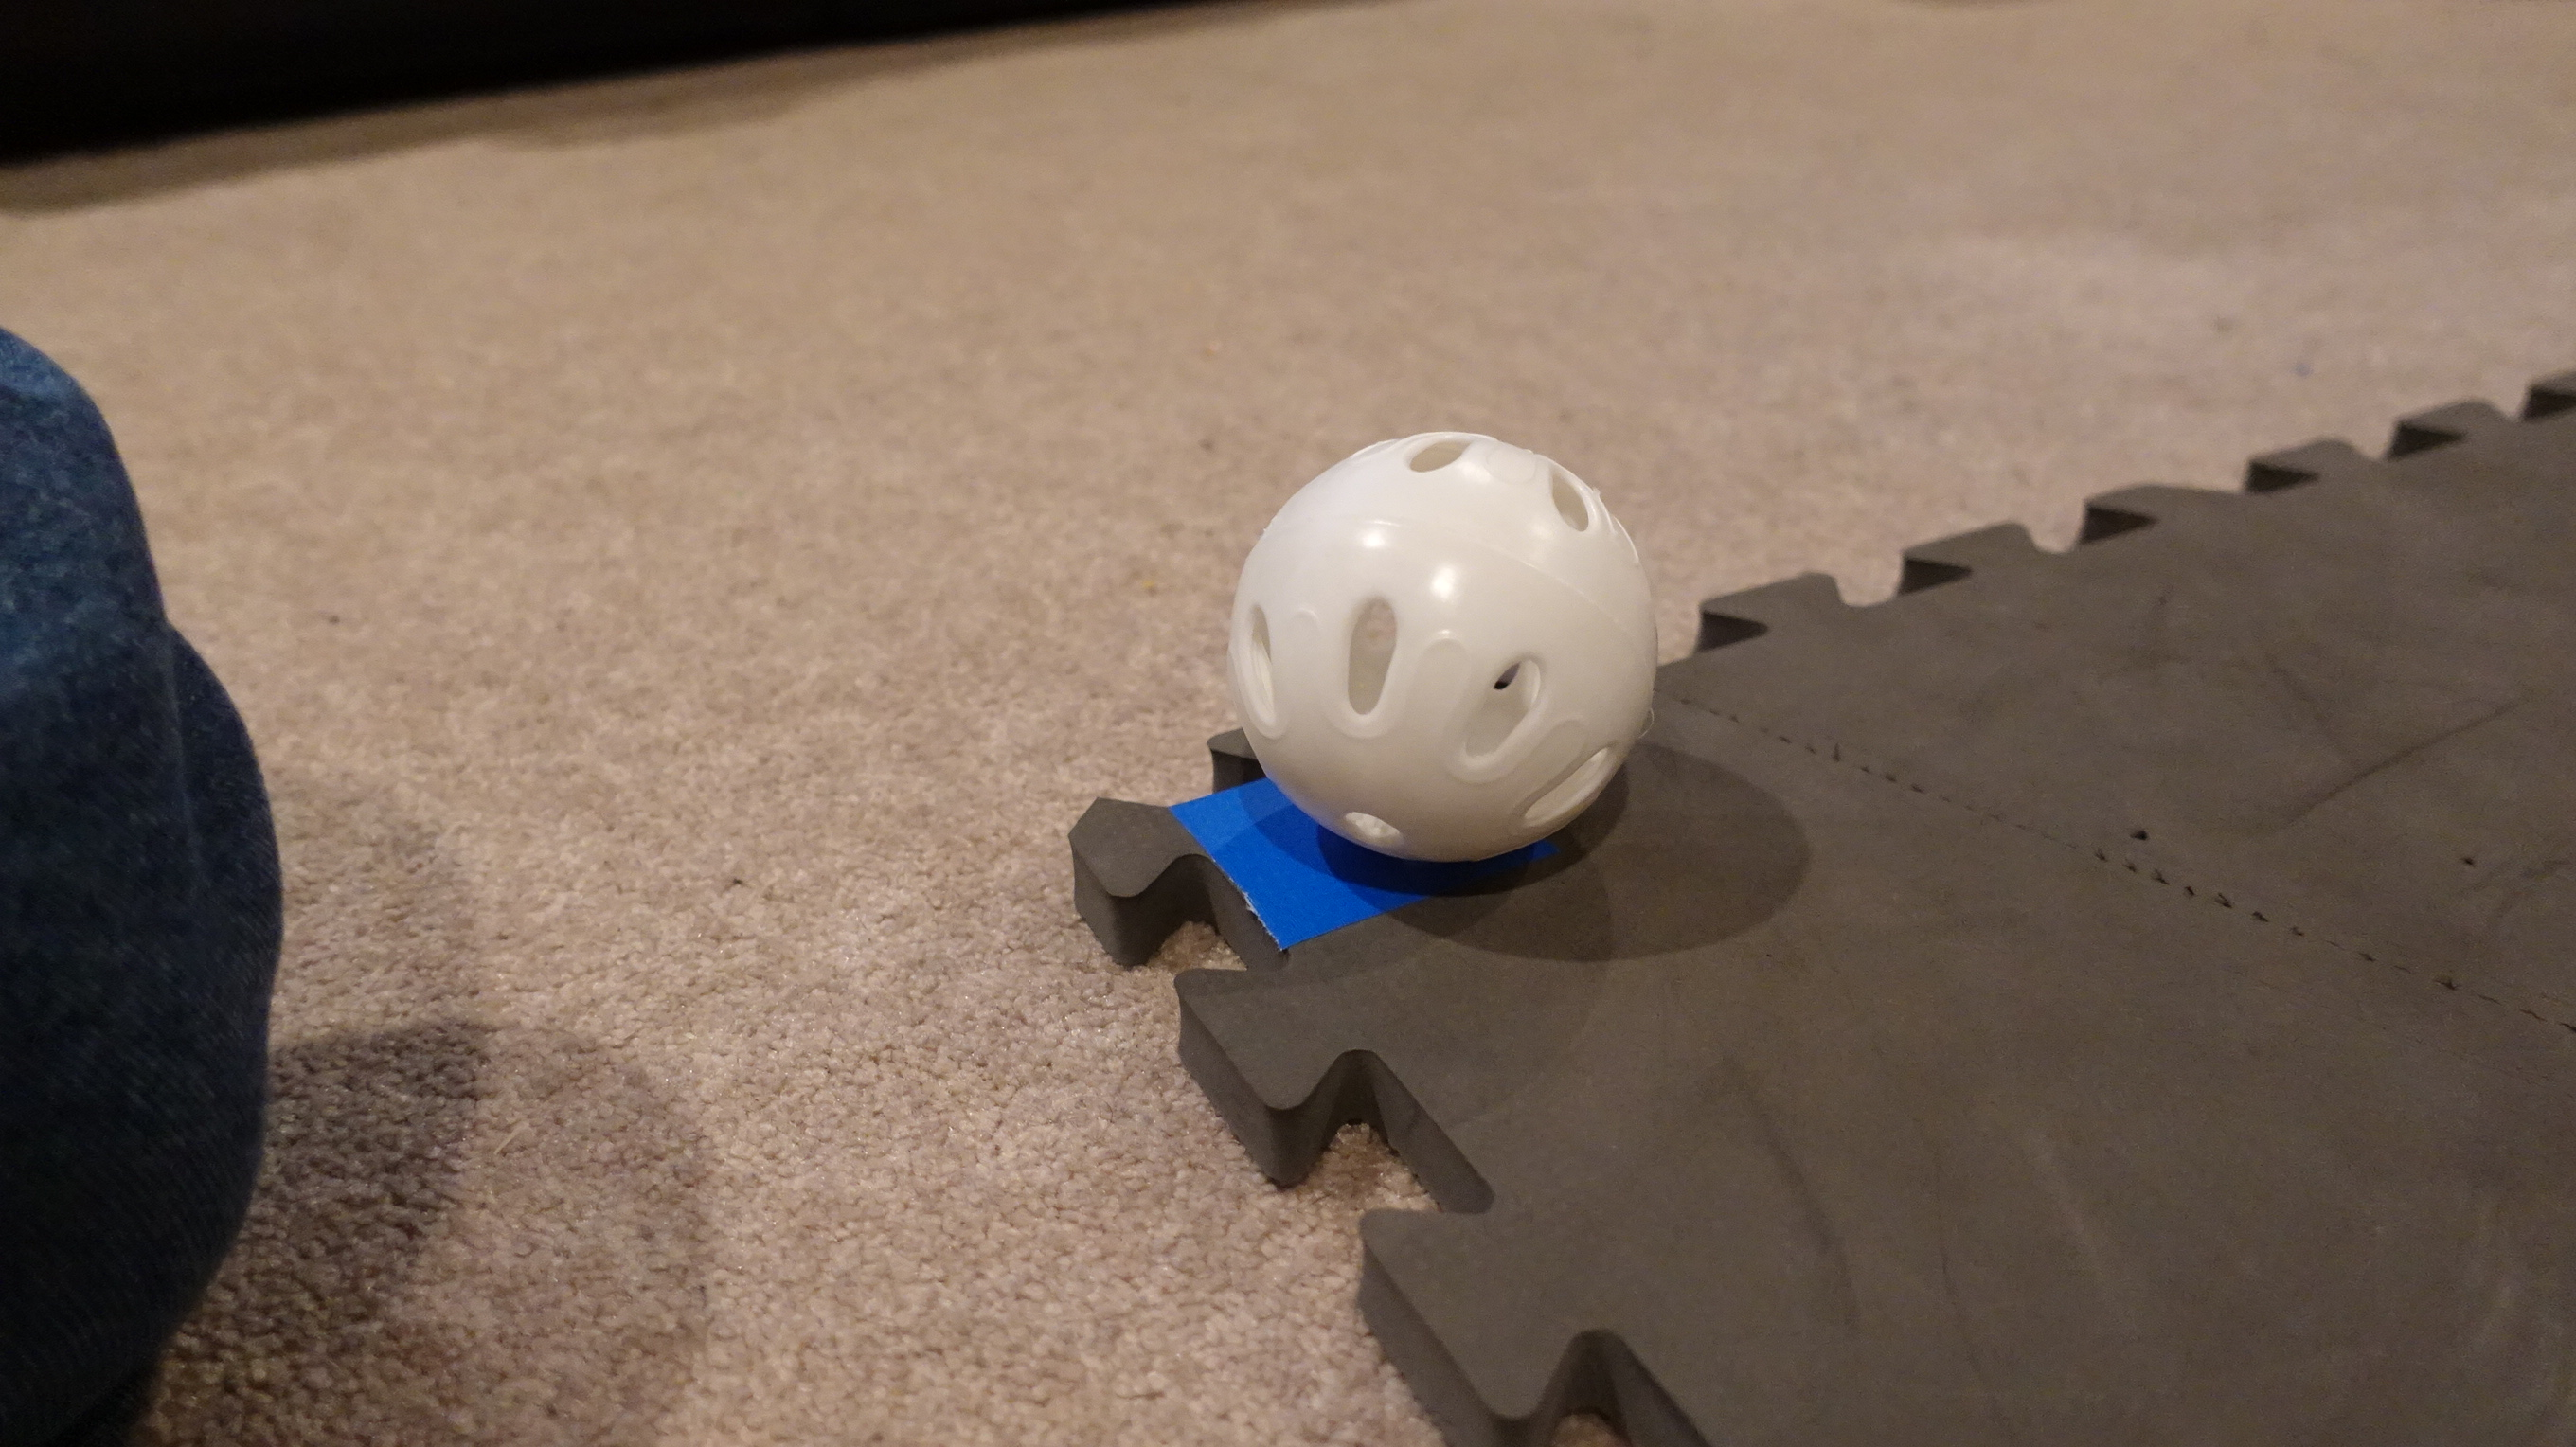silver: (1223, 430, 1656, 869)
